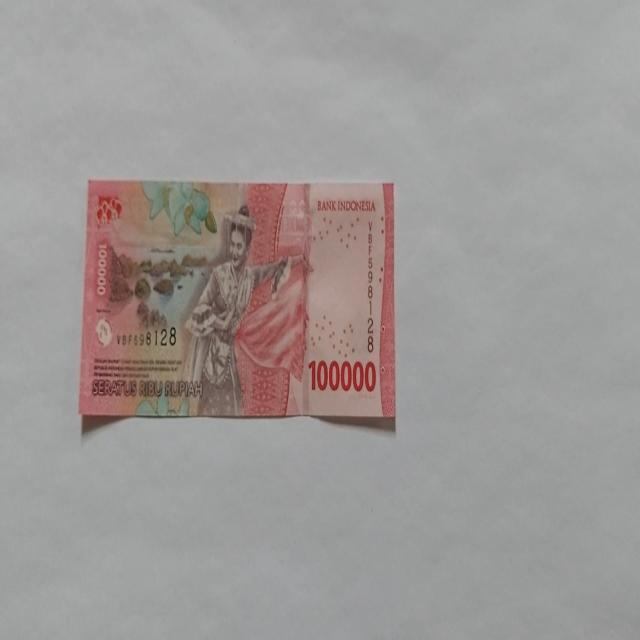seratus ribu rupiah: (78, 178, 396, 432), (180, 204, 294, 417)
